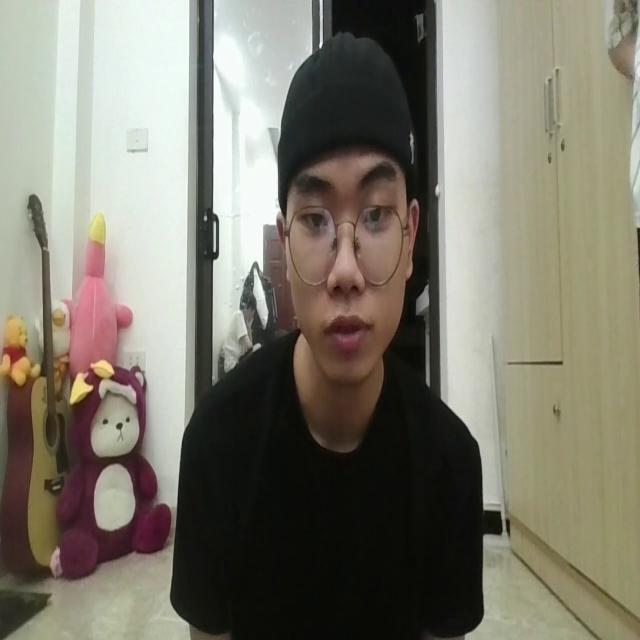student: (169, 28, 481, 640)
